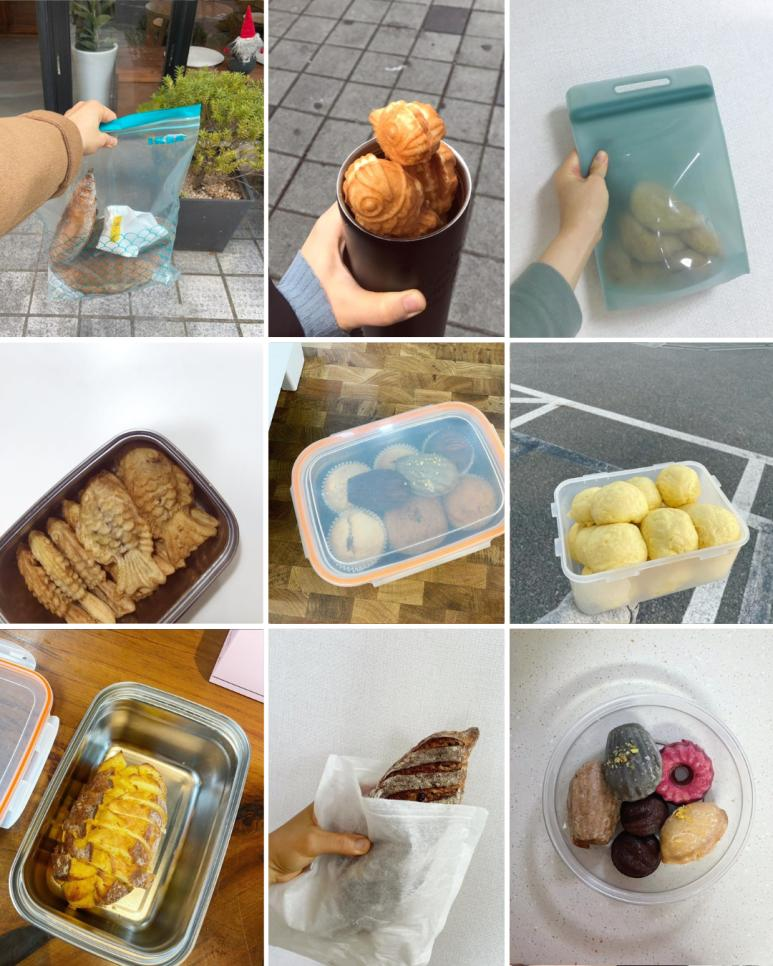Lunch Box: (9, 683, 249, 965), (269, 728, 487, 965), (0, 430, 238, 624), (567, 66, 748, 309), (543, 694, 753, 903), (290, 404, 503, 586), (37, 103, 200, 300), (337, 102, 471, 335), (551, 461, 748, 614)
